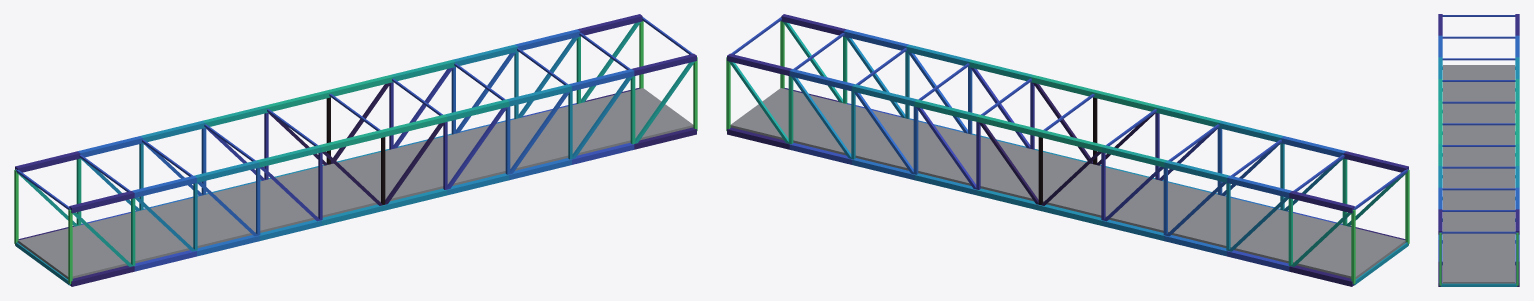
File: 20_2.25_10_HEA160.glb
The picture shows the model from 3 angles, left to right: view 1: azimuth 30°, elevation 25°; view 2: azimuth 150°, elevation 25°; view 3: azimuth 270°, elevation 25°; orthographic projection. The views are drawn at different scales.
Bounding box in the file's own units: 20.09 × 2.41 × 3.16.
